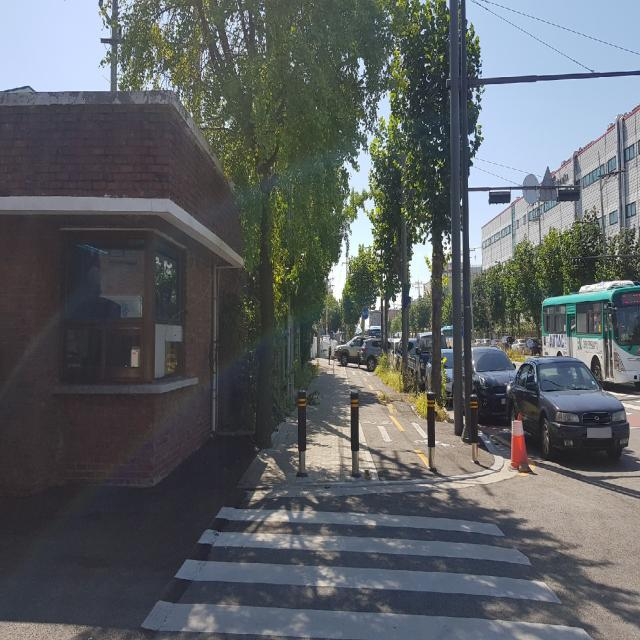횡단보도: (139, 504, 594, 640)
